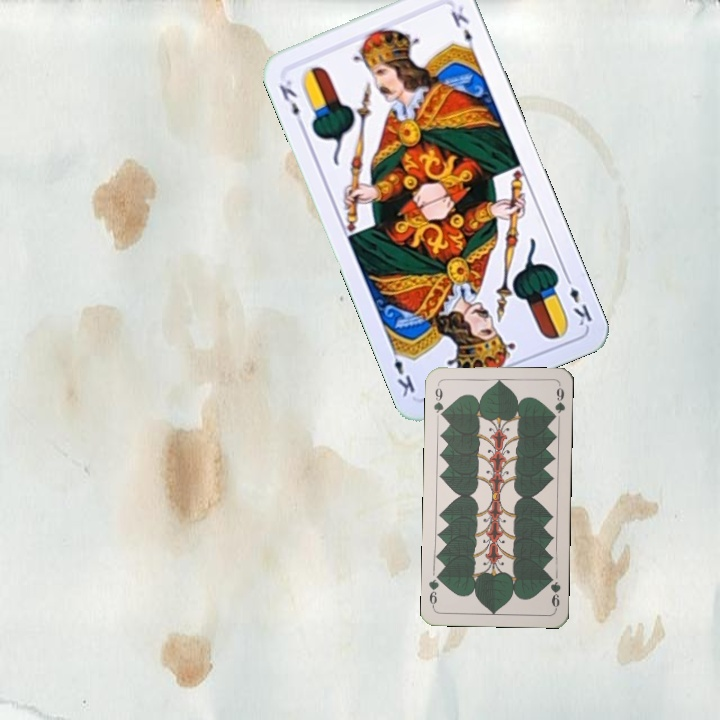EK: (560, 270, 595, 329), (275, 75, 308, 130)
G9: (545, 571, 563, 612), (429, 380, 447, 421)
